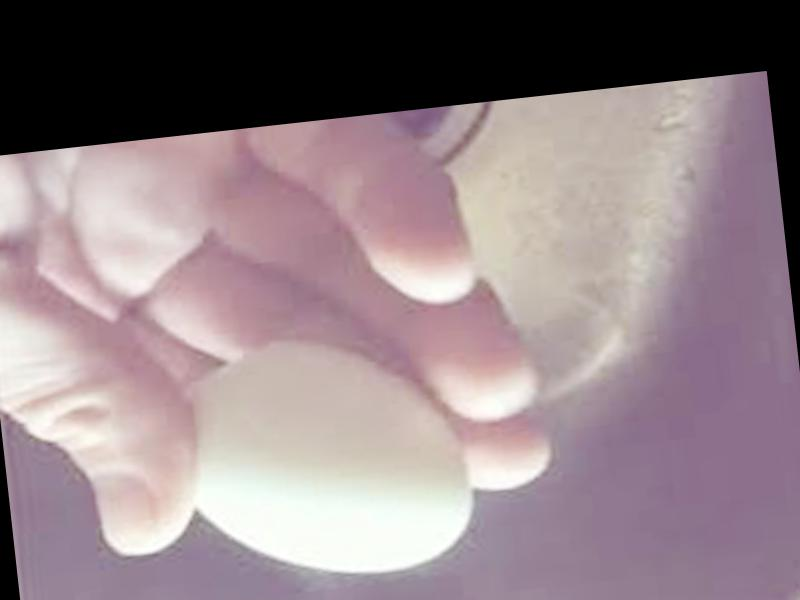Eggs: (173, 330, 473, 592)
